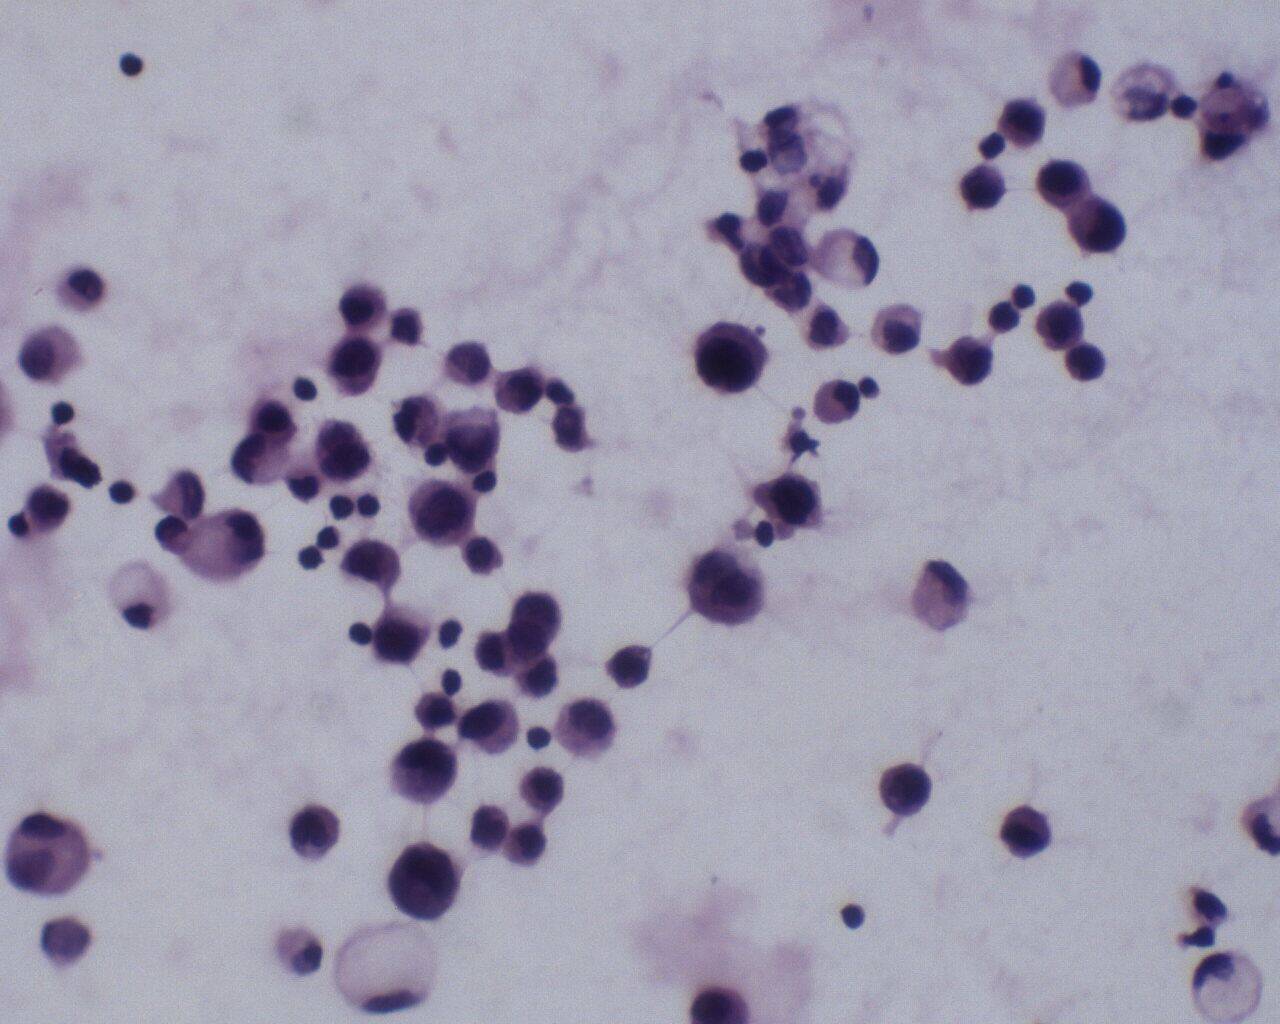ab: (690, 309, 769, 400), (388, 841, 468, 922), (748, 467, 828, 532), (408, 474, 475, 549), (389, 736, 460, 805), (438, 403, 506, 475), (1065, 195, 1134, 259), (369, 603, 433, 667), (328, 331, 387, 399), (877, 759, 937, 821), (340, 536, 400, 590), (1037, 157, 1095, 207), (956, 161, 1009, 215), (1034, 300, 1090, 352), (998, 96, 1050, 152), (945, 334, 998, 388)
histo: (330, 920, 442, 1022), (1190, 942, 1269, 1024), (102, 558, 174, 636), (812, 226, 885, 294), (1045, 49, 1106, 110)
lymph: (838, 897, 874, 934), (117, 47, 150, 82), (290, 376, 318, 403)
meso: (553, 691, 625, 766), (16, 322, 82, 388)
